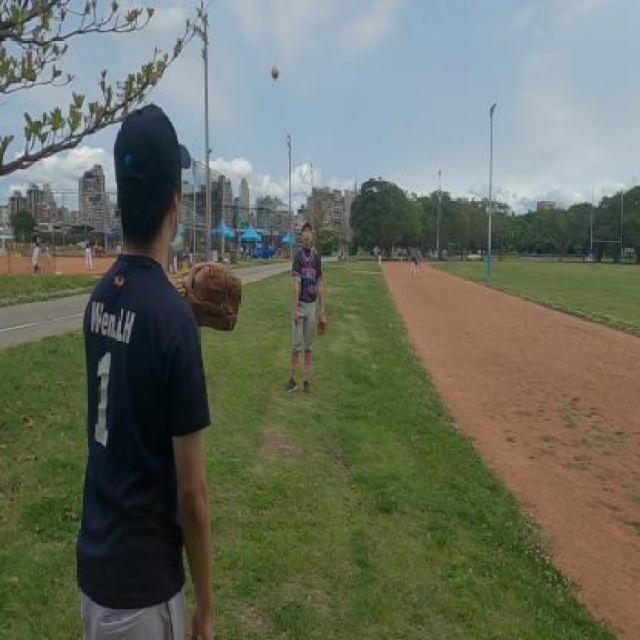baseball: (272, 65, 279, 80)
